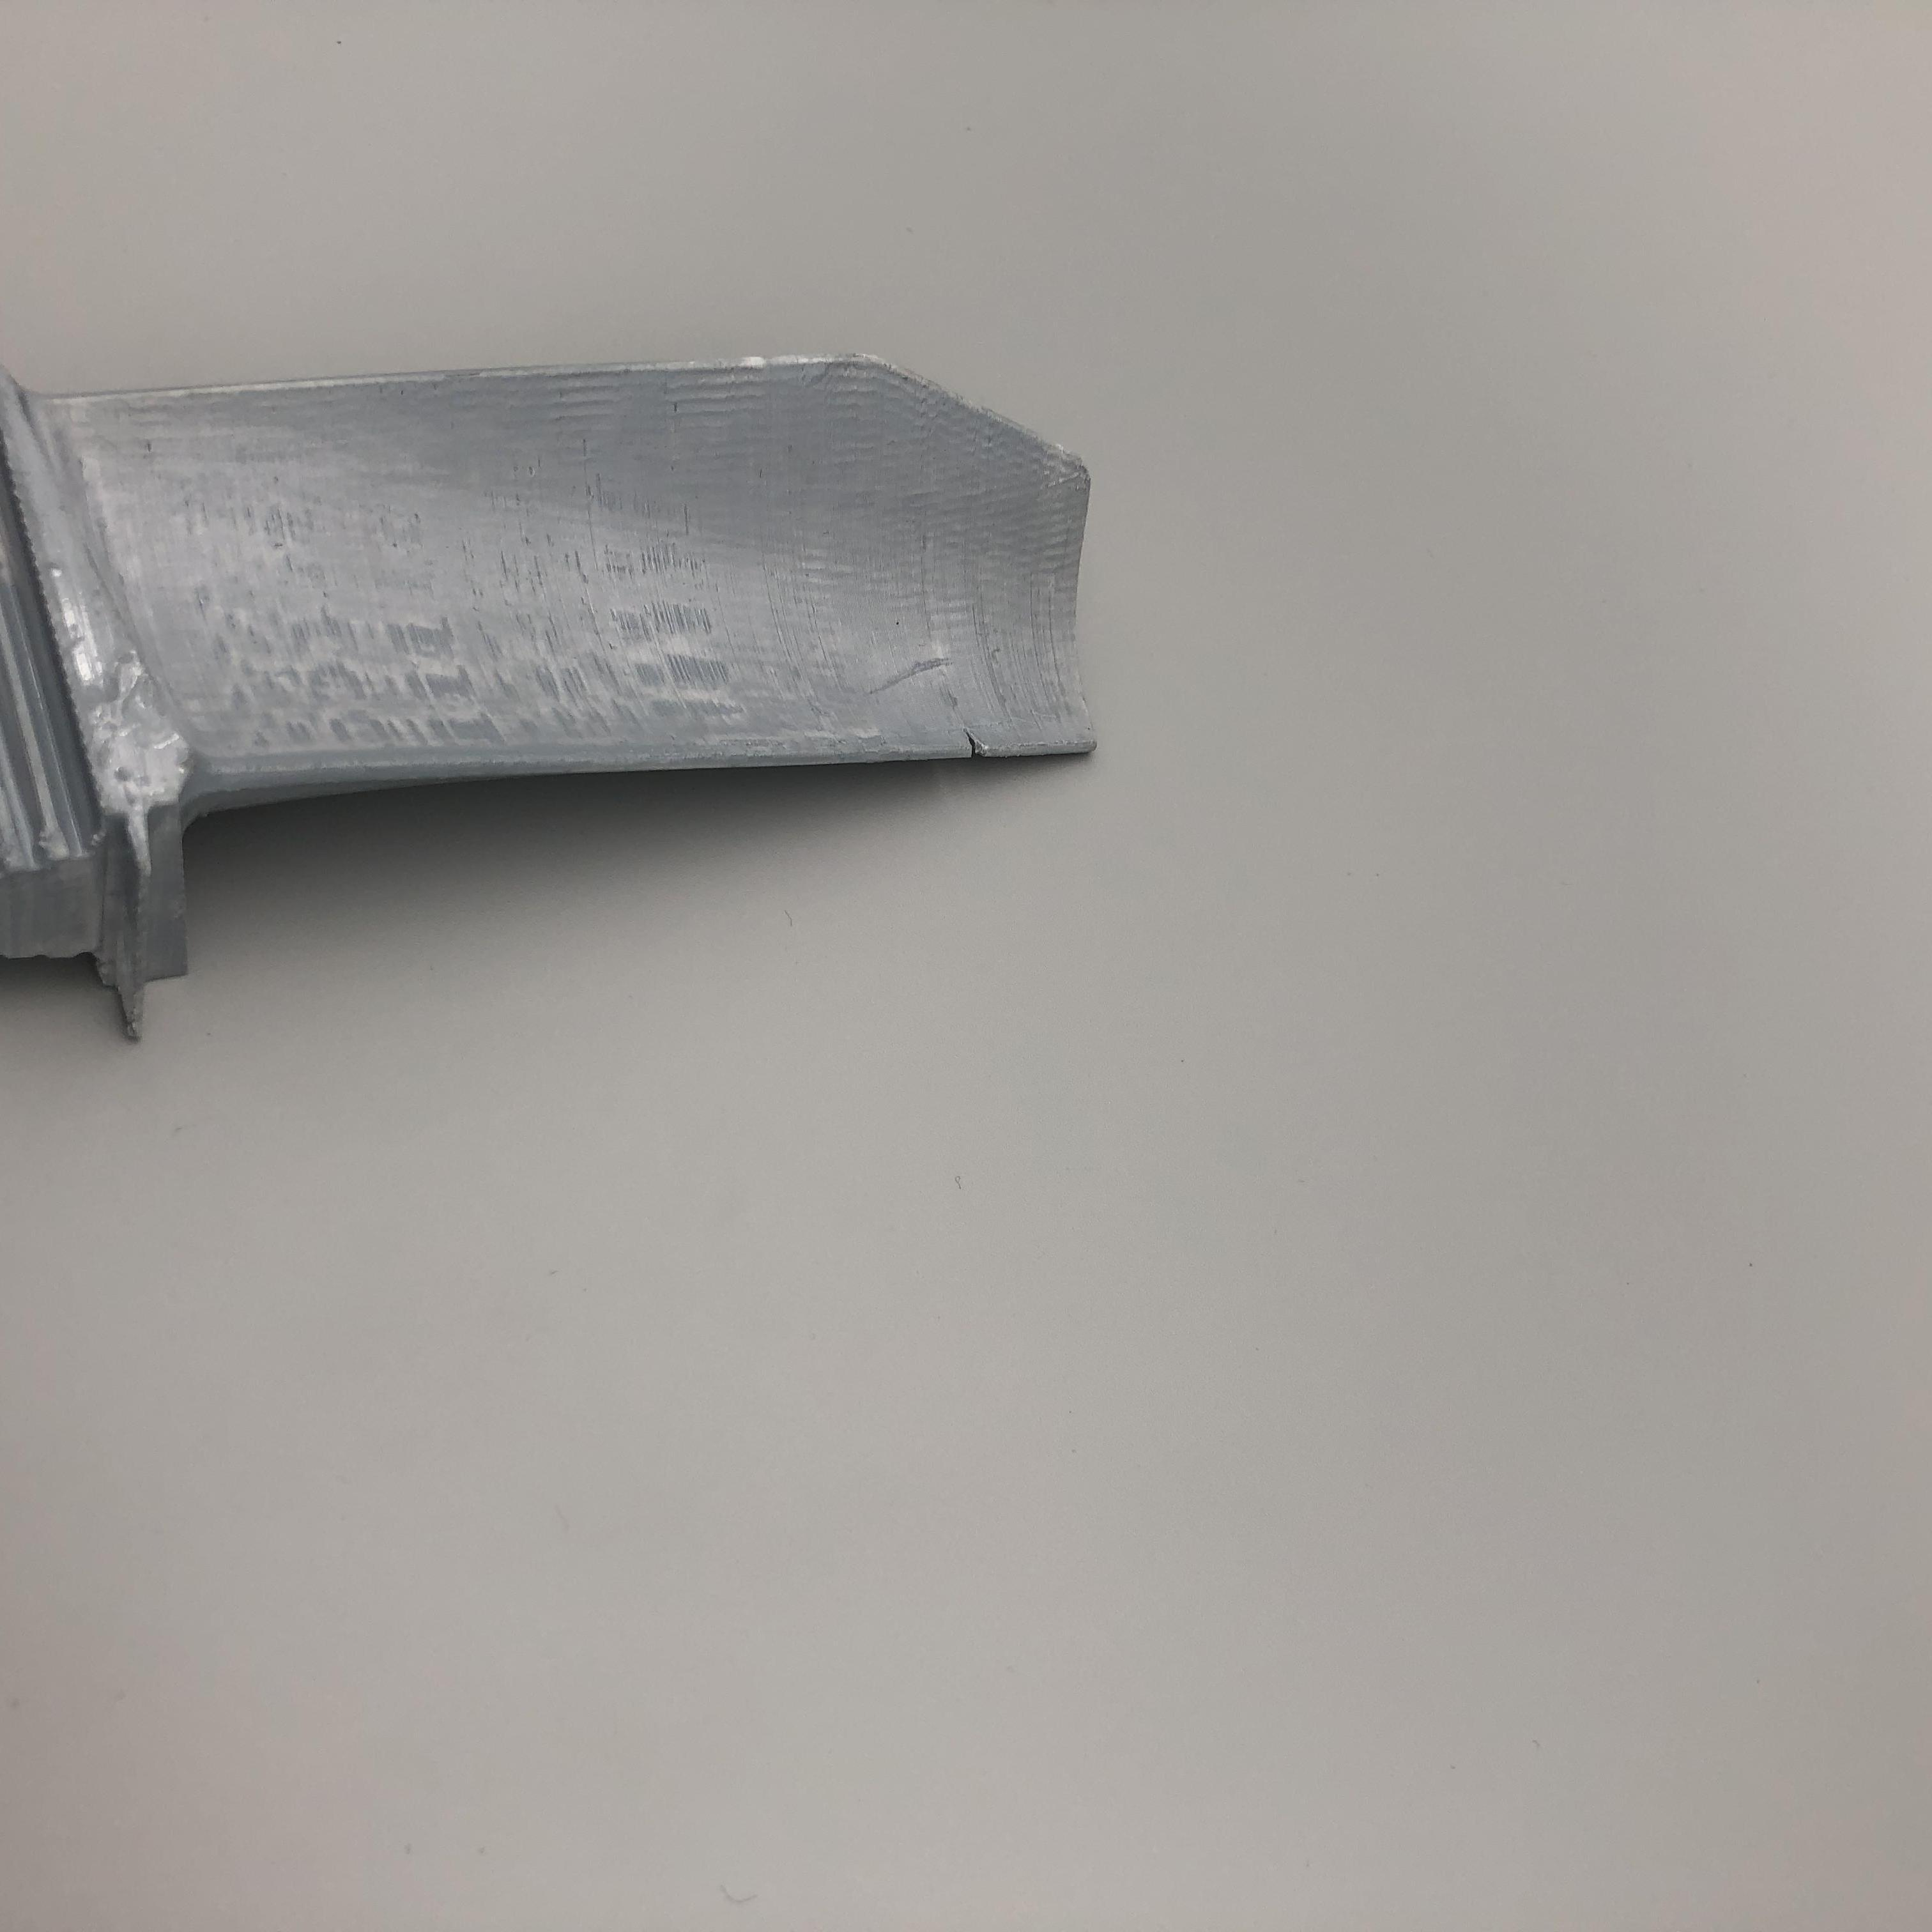groove: (954, 731, 998, 761)
